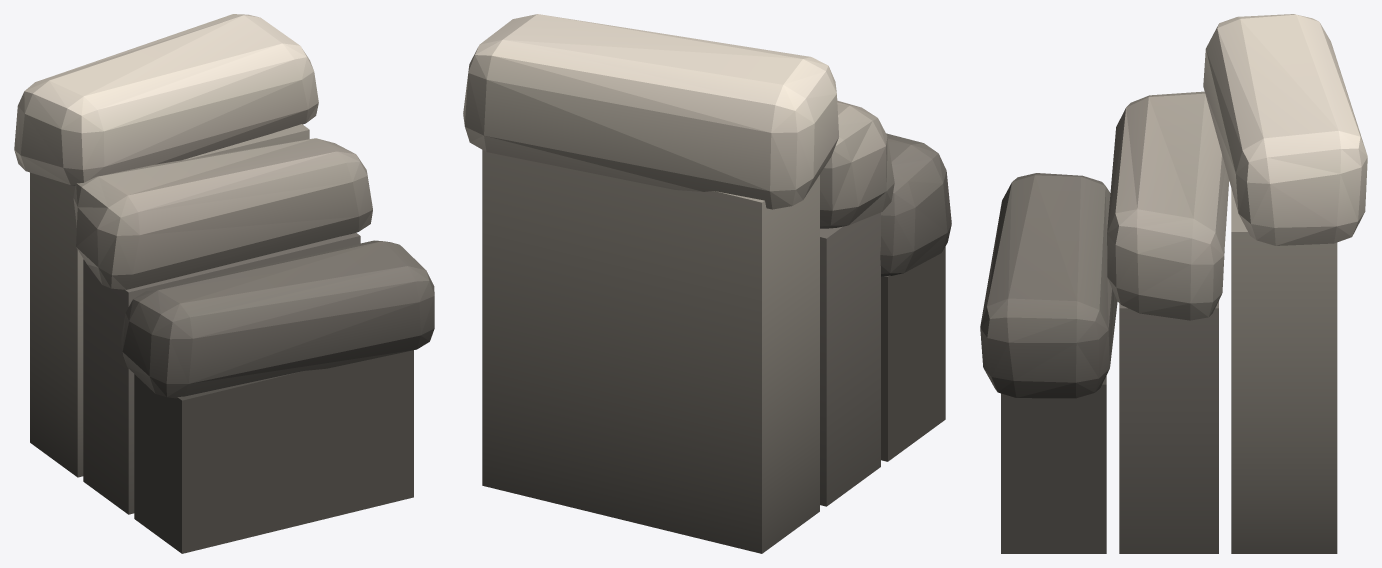
File: SM_VK_Prop_GranaryStep.fbx
3 views of the same model, side by side, from view 1: azimuth 30°, elevation 25°; view 2: azimuth 150°, elevation 25°; view 3: azimuth 270°, elevation 25° (orthographic). The views are drawn at different scales.
Parts seen in each view (by area): view 1: SM_VK_Prop_GranaryStep.001; view 2: SM_VK_Prop_GranaryStep.001; view 3: SM_VK_Prop_GranaryStep.001.
Part boxes in pixels (left/top/right/bottom): SM_VK_Prop_GranaryStep.001: left=14, top=14, right=434, bottom=553; SM_VK_Prop_GranaryStep.001: left=463, top=14, right=951, bottom=553; SM_VK_Prop_GranaryStep.001: left=980, top=14, right=1367, bottom=553.
Bounding box in the file's own units: 1.17 × 1.47 × 1.24.
